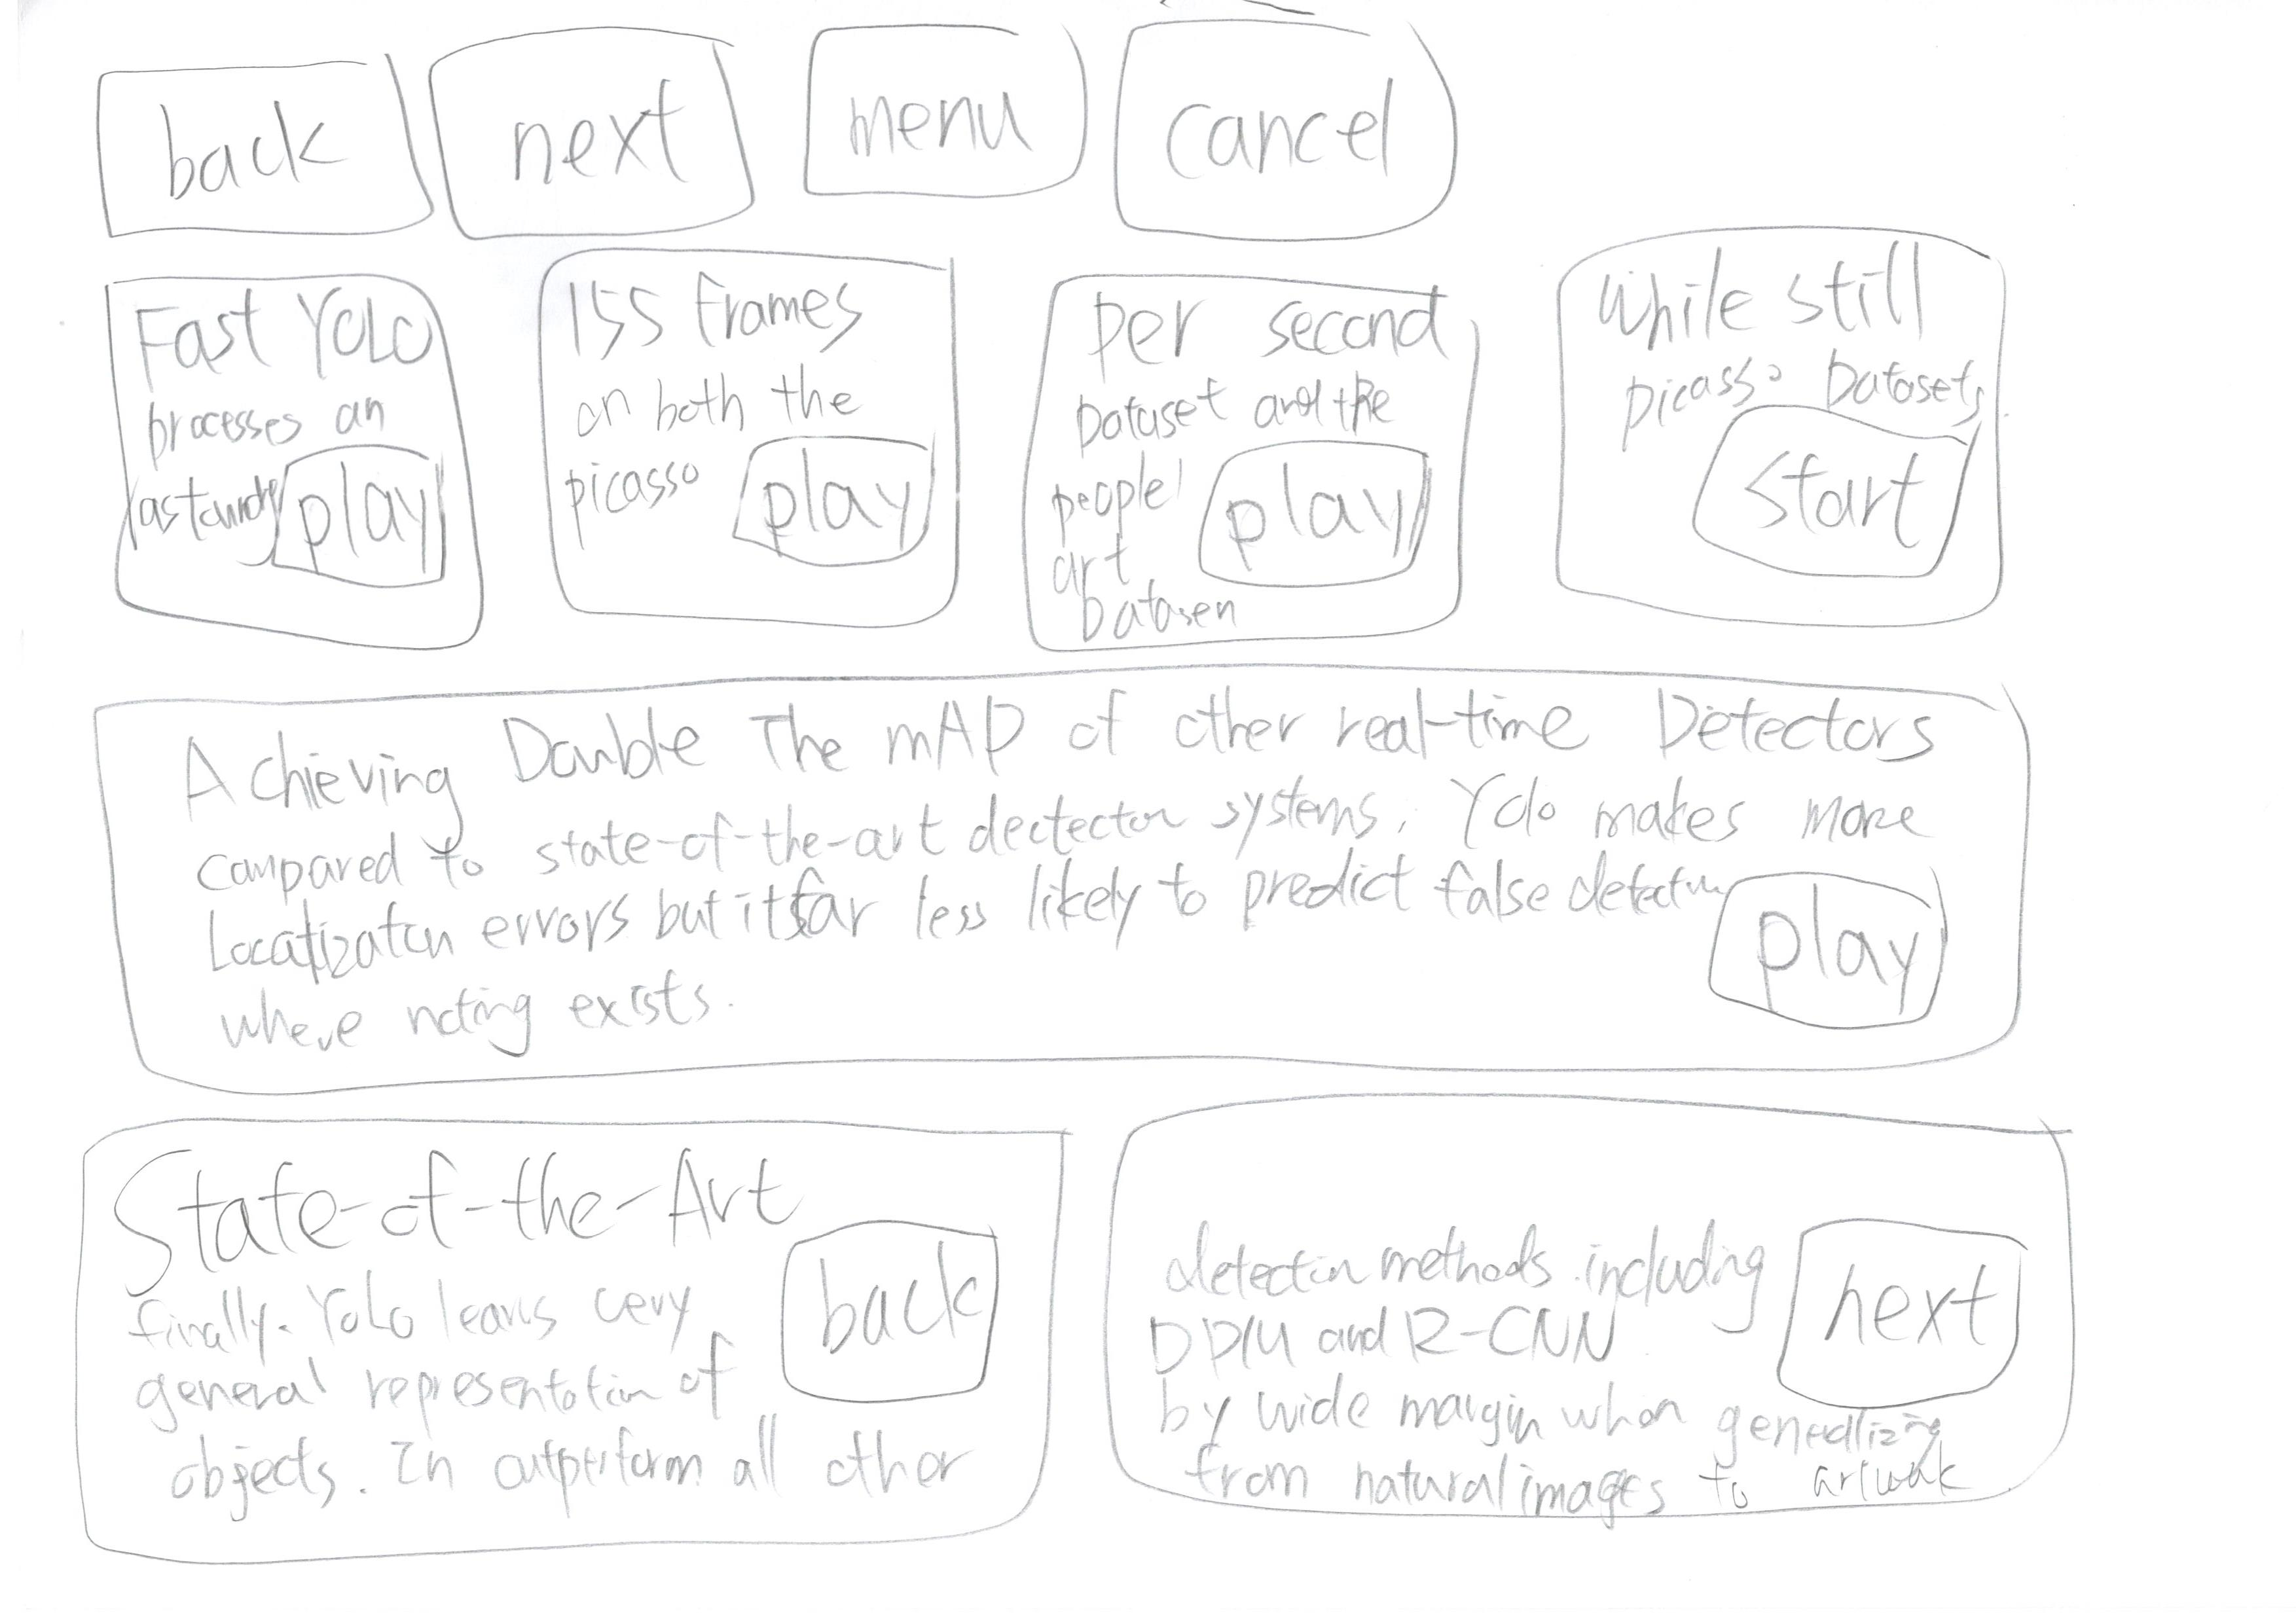back: (86, 28, 455, 246), (758, 1211, 1032, 1420)
cancel: (1090, 5, 1494, 250)
double: (1079, 1069, 2118, 1562), (56, 1081, 1088, 1571)
menu: (781, 11, 1111, 241)
next: (403, 16, 767, 241), (1772, 1183, 2039, 1425)
play: (1682, 859, 1971, 1039), (1183, 420, 1459, 603), (733, 411, 951, 594), (255, 443, 475, 608)
quadruple: (1533, 216, 2036, 642), (1004, 248, 1507, 671), (67, 250, 519, 666), (522, 237, 974, 654)
row: (18, 1065, 2296, 1608), (18, 650, 2296, 1088), (4, 220, 2284, 656), (35, 2, 2236, 279)
single: (51, 647, 2115, 1088)
small-title: (158, 689, 1953, 777), (102, 1132, 798, 1267), (1134, 1176, 1753, 1308), (1582, 230, 1943, 344), (573, 264, 888, 373), (1072, 285, 1438, 371), (127, 290, 422, 392)
start: (1684, 390, 1999, 601)
text: (176, 793, 1675, 1042), (127, 1280, 759, 1512), (1116, 1304, 1765, 1490), (1069, 383, 1197, 638), (580, 388, 740, 552), (135, 394, 272, 575), (1623, 344, 1985, 413), (1688, 1413, 1957, 1496), (798, 1422, 976, 1492)
